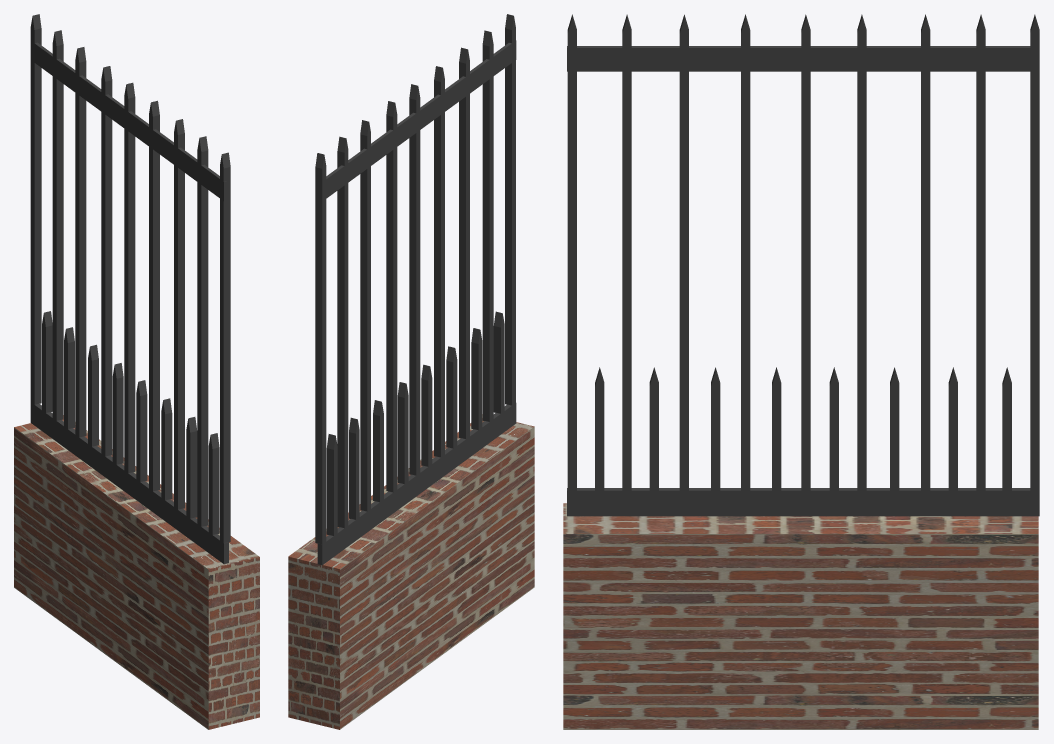
Rendered from reja 2.fbx.
3 views of the same model, side by side, from view 1: azimuth 30°, elevation 25°; view 2: azimuth 150°, elevation 25°; view 3: azimuth 270°, elevation 25° (orthographic). The views are drawn at different scales.
Parts seen in each view (by area): view 1: Cube.032; view 2: Cube.032; view 3: Cube.032.
Part boxes in pixels (x1,y1,x2,y2): Cube.032: (14,14,259,729); Cube.032: (288,14,534,729); Cube.032: (563,14,1039,729).
Bounding box in the file's own units: 291 × 3075 × 1909.
2 materials, 1 textured.
